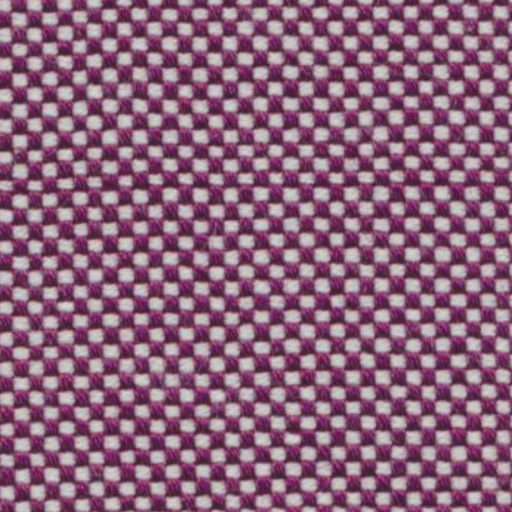TuoSha: (10, 146, 497, 214)
